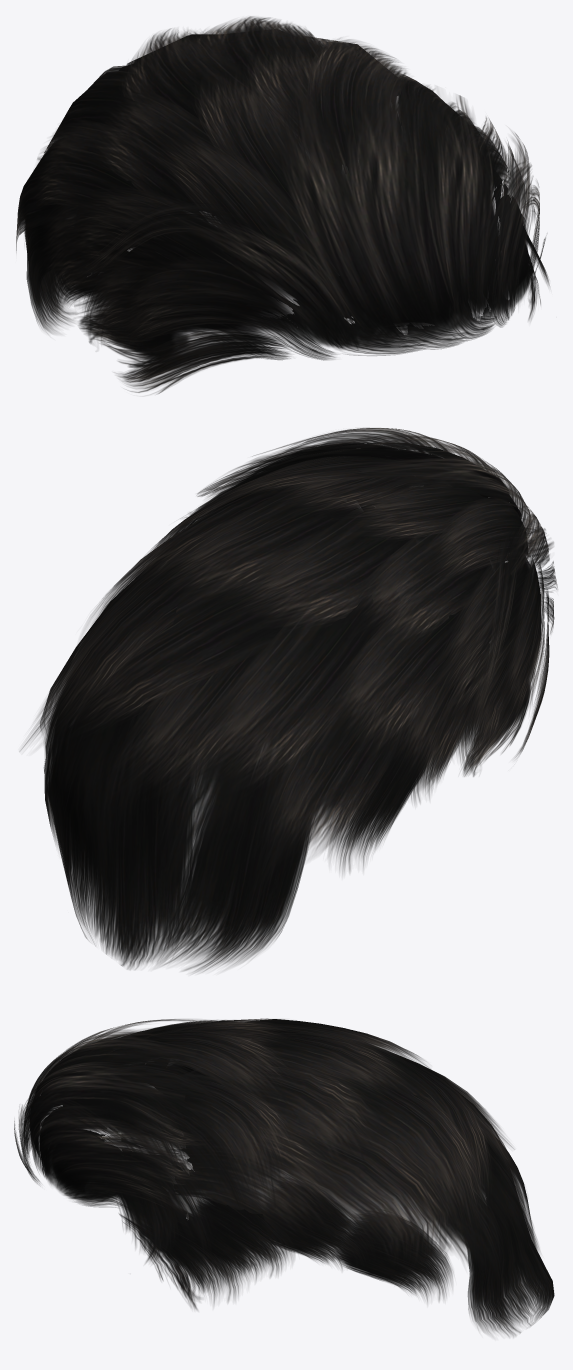
The model's file is Oblong_Straight_SlickBack.glb.
The picture shows the model from 3 angles, top to bottom: view 1: azimuth 30°, elevation 25°; view 2: azimuth 150°, elevation 25°; view 3: azimuth 270°, elevation 25°; orthographic projection. The views are drawn at different scales.
Visible parts, largest first — view 1: slick_back; view 2: slick_back; view 3: slick_back.
Part boxes in pixels (left/top/right/bottom): slick_back: left=16, top=16, right=549, bottom=393; slick_back: left=20, top=428, right=557, bottom=972; slick_back: left=14, top=1018, right=554, bottom=1336.
Bounding box in the file's own units: 0.1507 × 0.1475 × 0.238.
1 material, 1 textured.
